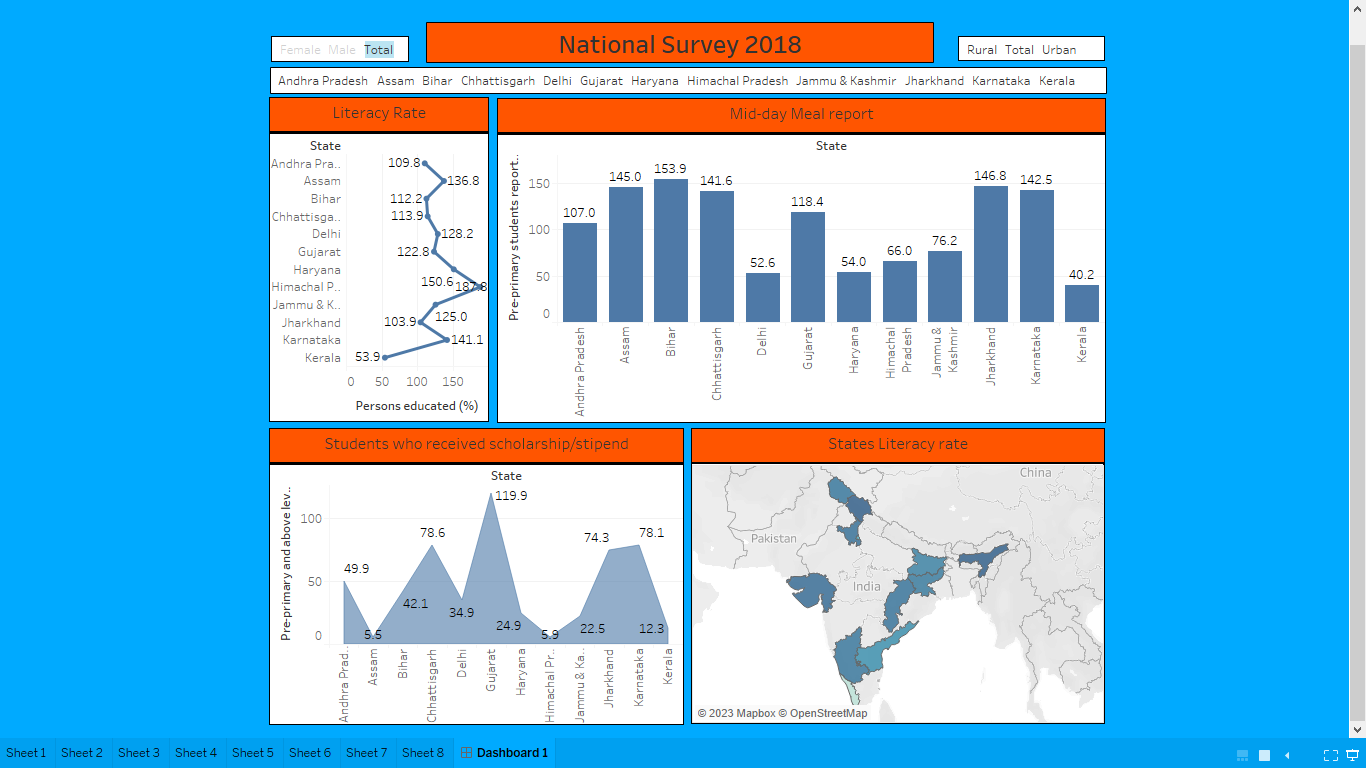

The dashboard page shown, as its layout file describes it:
{"tool":"tableau","page":{"name":"Dashboard 1","canvas":[1024,768],"ordinal":0},"visuals":[{"type":"worksheet","title":"Sheet 8","mark":"Automatic","box":[264,52,508,41]},{"type":"worksheet","title":"Sheet 3","mark":"Automatic","box":[109,66,138,26]},{"type":"worksheet","title":"Sheet 2","mark":"Automatic","box":[796,66,147,25]},{"type":"worksheet","title":"Sheet 1","mark":"Automatic","box":[108,97,837,27]},{"type":"worksheet","title":"Sheet 5","mark":"Line","rows":["State"],"cols":["Persons educated (%)"],"box":[107,127,220,325]},{"type":"worksheet","title":"Sheet 6","mark":"Automatic","cols":["State"],"box":[335,128,609,325]},{"type":"worksheet","title":"Sheet 7","mark":"Area","cols":["State"],"box":[107,458,415,297]},{"type":"worksheet","title":"Sheet 4","mark":"Automatic","box":[529,458,414,296]}]}

Visuals, with their boxes in screenshot pixels (x1, y1, x2, y2):
"Sheet 8" worksheet: (left=424, top=19, right=925, bottom=60)
"Sheet 3" worksheet: (left=271, top=33, right=407, bottom=59)
"Sheet 2" worksheet: (left=949, top=33, right=1094, bottom=58)
"Sheet 1" worksheet: (left=270, top=64, right=1096, bottom=90)
"Sheet 5" worksheet (Line marks): (left=269, top=93, right=486, bottom=414)
"Sheet 6" worksheet: (left=494, top=94, right=1095, bottom=415)
"Sheet 7" worksheet (Area marks): (left=269, top=420, right=679, bottom=713)
"Sheet 4" worksheet: (left=686, top=420, right=1094, bottom=712)
